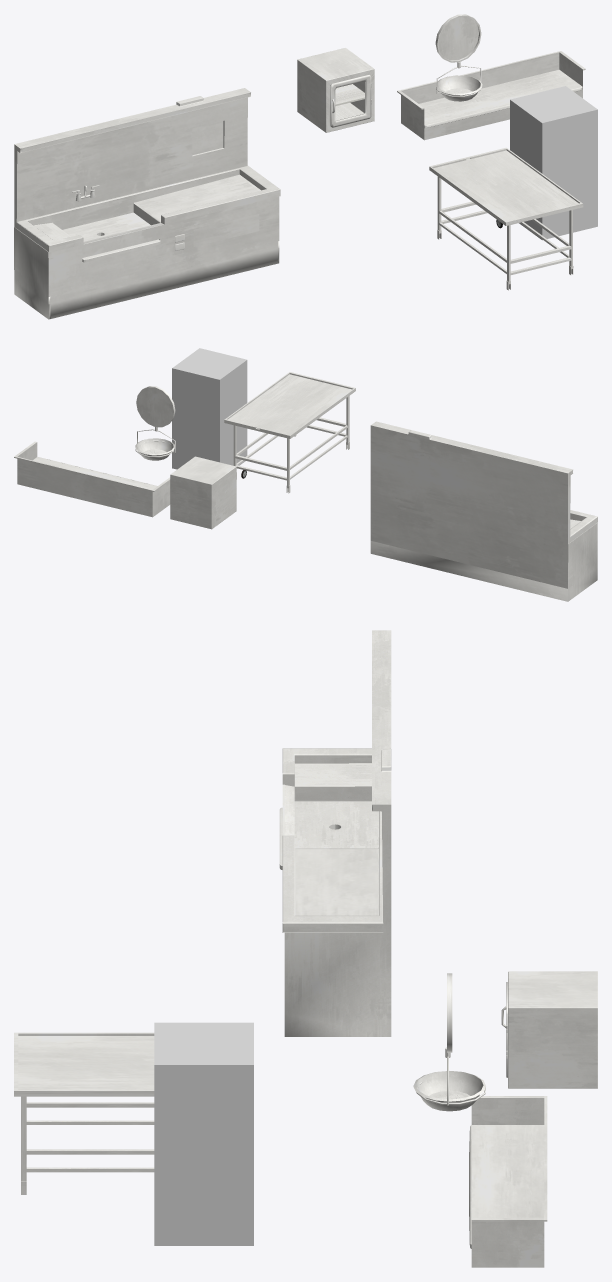
File: HospitalAssets.glb
The picture shows the model from 3 angles, top to bottom: view 1: azimuth 30°, elevation 25°; view 2: azimuth 150°, elevation 25°; view 3: azimuth 270°, elevation 25°; orthographic projection. The views are drawn at different scales.
Parts seen in each view (by area): view 1: HospitalSink, cadaverTable, PersonScale, wallTable, Cabinet, Scale, CabinetDoor; view 2: HospitalSink, PersonScale, cadaverTable, wallTable, Cabinet, Scale; view 3: HospitalSink, PersonScale, wallTable, cadaverTable, Cabinet, Scale.
Part boxes in pixels (bbox=[...]): HospitalSink: bbox=[14, 88, 280, 319]; cadaverTable: bbox=[429, 147, 583, 290]; PersonScale: bbox=[510, 86, 597, 240]; wallTable: bbox=[397, 51, 585, 140]; Cabinet: bbox=[297, 48, 374, 132]; Scale: bbox=[435, 14, 482, 101]; CabinetDoor: bbox=[330, 74, 371, 127]; HospitalSink: bbox=[370, 421, 597, 601]; PersonScale: bbox=[172, 348, 247, 469]; cadaverTable: bbox=[224, 372, 355, 493]; wallTable: bbox=[14, 441, 170, 517]; Cabinet: bbox=[170, 456, 236, 529]; Scale: bbox=[135, 386, 175, 460]; HospitalSink: bbox=[279, 630, 391, 1036]; PersonScale: bbox=[154, 1022, 253, 1245]; wallTable: bbox=[469, 1096, 547, 1267]; cadaverTable: bbox=[14, 1032, 154, 1194]; Cabinet: bbox=[508, 971, 597, 1088]; Scale: bbox=[413, 973, 485, 1111].
Bounding box in the file's own units: 10.7 × 2.62 × 5.85.
Materials: 2 (2 with a texture image).
